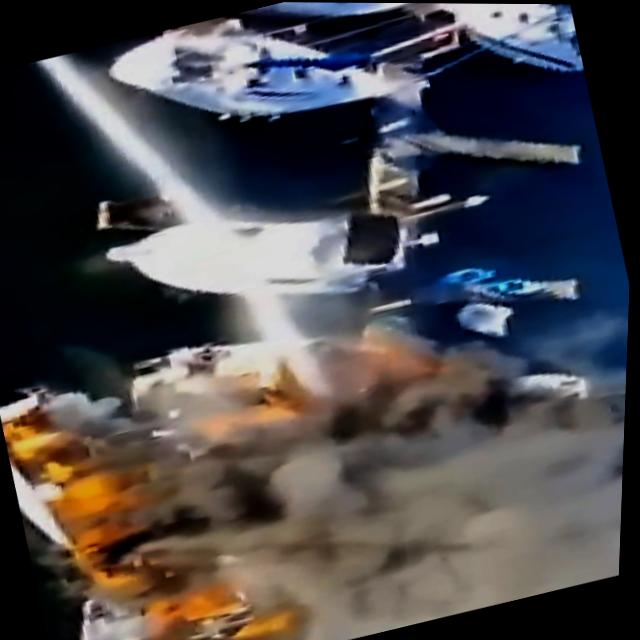fire: (4, 415, 145, 556)
